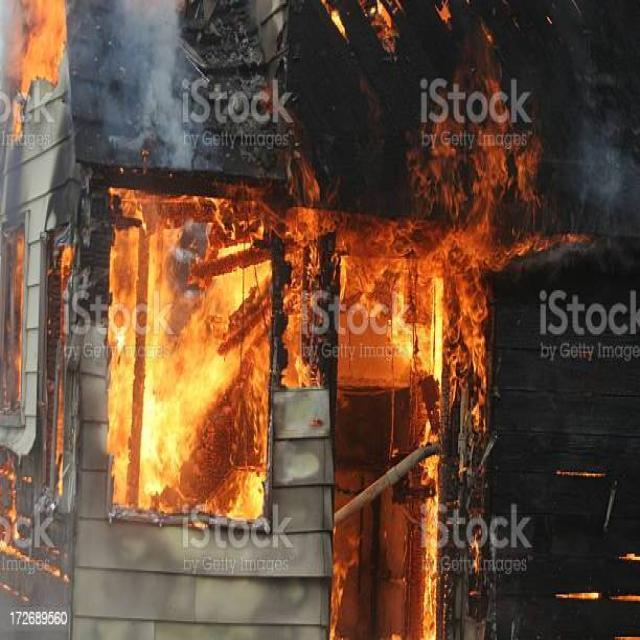Fire: (112, 191, 271, 525), (284, 205, 496, 398), (416, 72, 542, 201), (5, 0, 68, 136), (416, 402, 440, 638)
Smoke: (108, 2, 195, 169)
